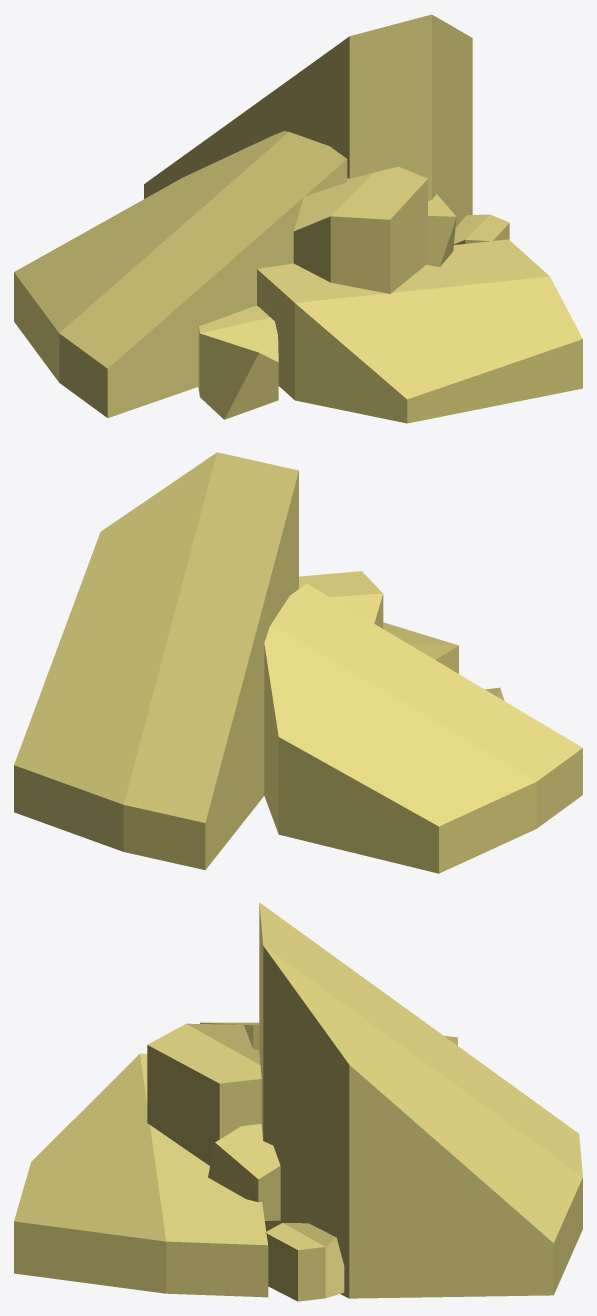
Rendered from RockType5 02.fbx.
3 views of the same model, one above another, from view 1: azimuth 30°, elevation 25°; view 2: azimuth 150°, elevation 25°; view 3: azimuth 270°, elevation 25° (orthographic). The views are drawn at different scales.
Visible parts, largest first — view 1: Rock Type5 02 mesh; view 2: Rock Type5 02 mesh; view 3: Rock Type5 02 mesh.
Boxes of the visible parts, box(x1,y1,x2,y2) form: Rock Type5 02 mesh: box(14, 14, 582, 423); Rock Type5 02 mesh: box(14, 452, 582, 873); Rock Type5 02 mesh: box(14, 902, 582, 1301).
Bounding box in the file's own units: 226 × 144 × 236.
